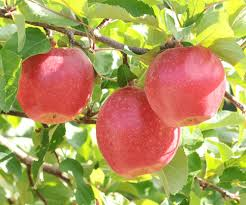apple: (97, 91, 186, 183), (147, 47, 228, 127), (18, 49, 93, 124)
